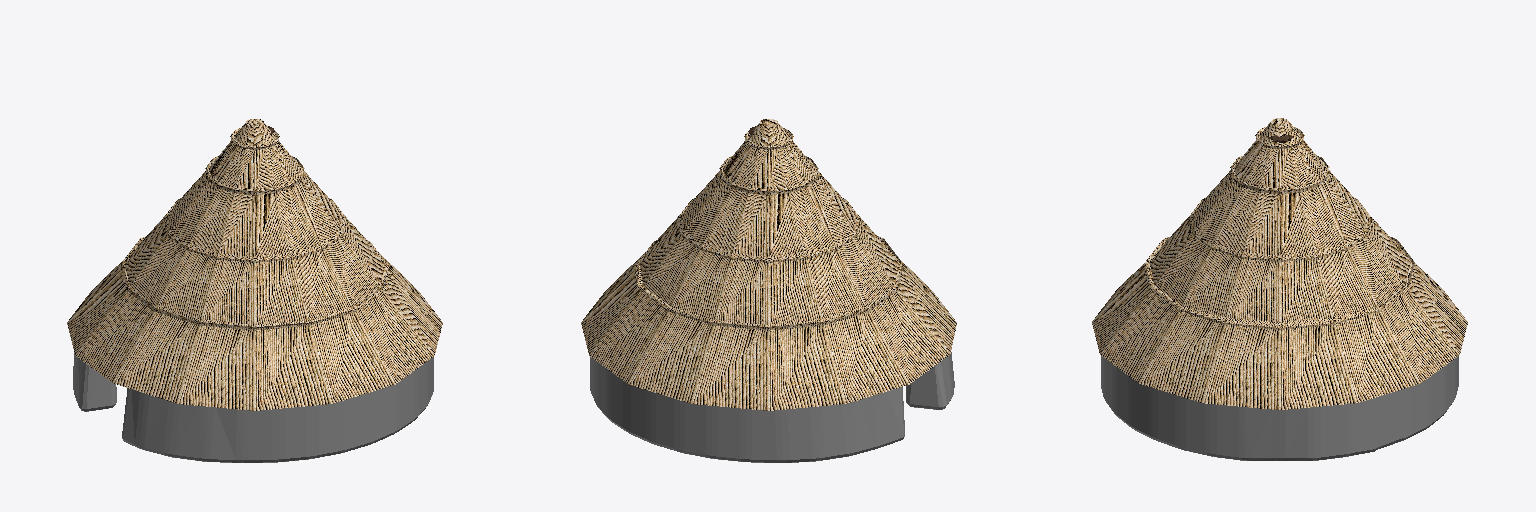
The picture shows the model from 3 angles: view 1: azimuth 30°, elevation 25°; view 2: azimuth 150°, elevation 25°; view 3: azimuth 270°, elevation 25°; orthographic projection.
Visible parts, largest first — view 1: tetto_Mesh.004, mura_Mesh; view 2: tetto_Mesh.004, mura_Mesh; view 3: tetto_Mesh.004, mura_Mesh.
Part boxes in pixels (bbox=[...]): tetto_Mesh.004: bbox=[67, 119, 442, 410]; mura_Mesh: bbox=[73, 353, 433, 462]; tetto_Mesh.004: bbox=[581, 119, 956, 410]; mura_Mesh: bbox=[590, 352, 954, 462]; tetto_Mesh.004: bbox=[1092, 118, 1467, 409]; mura_Mesh: bbox=[1101, 356, 1458, 460].
Size of the model in its own units: 5.3 by 4.16 by 5.31.
Materials: 4 (2 with a texture image).